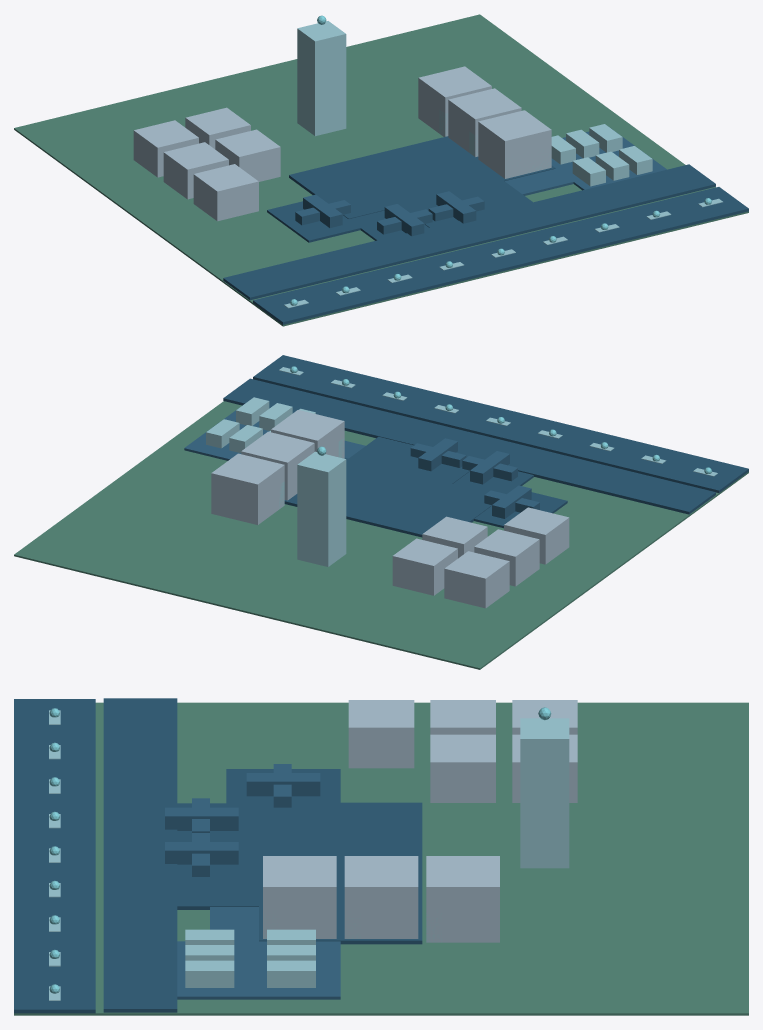
File: stage_20.glb
3 renders of one model, top to bottom at view 1: azimuth 30°, elevation 25°; view 2: azimuth 150°, elevation 25°; view 3: azimuth 270°, elevation 25°, orthographic. The views are drawn at different scales.
Parts seen in each view (by area): view 1: geometry_0; view 2: geometry_0; view 3: geometry_0.
Part boxes in pixels (x1,y1,x2,y2): geometry_0: (14,14,748,326); geometry_0: (14,355,748,669); geometry_0: (14,698,748,1015).
Size of the model in its own units: 9 by 2.06 by 9.
